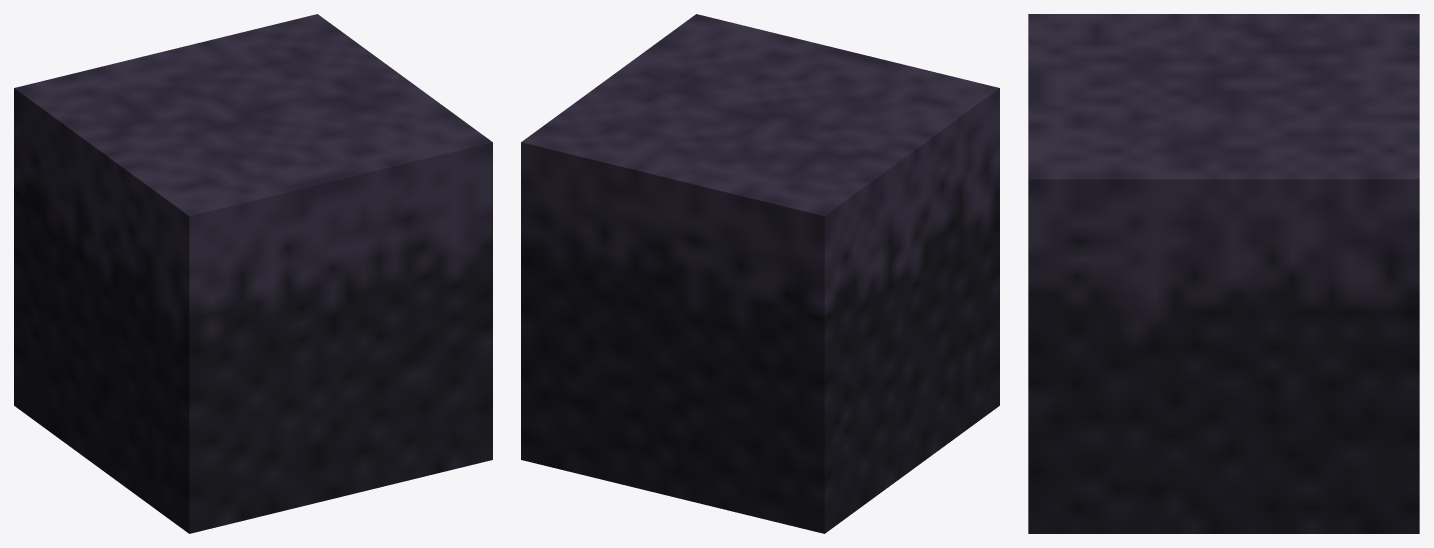
The model's file is Graveyard_terrain_top.dae.
The picture shows the model from 3 angles, left to right: view 1: azimuth 30°, elevation 25°; view 2: azimuth 150°, elevation 25°; view 3: azimuth 270°, elevation 25°; orthographic projection. The views are drawn at different scales.
Parts seen in each view (by area): view 1: Graveyard_terrain_top; view 2: Graveyard_terrain_top; view 3: Graveyard_terrain_top.
Part boxes in pixels (x1,y1,x2,y2): Graveyard_terrain_top: [14, 14, 492, 533]; Graveyard_terrain_top: [521, 14, 999, 533]; Graveyard_terrain_top: [1028, 14, 1419, 533].
Size of the model in its own units: 20 by 20 by 20.
Materials: 1 (1 with a texture image).
